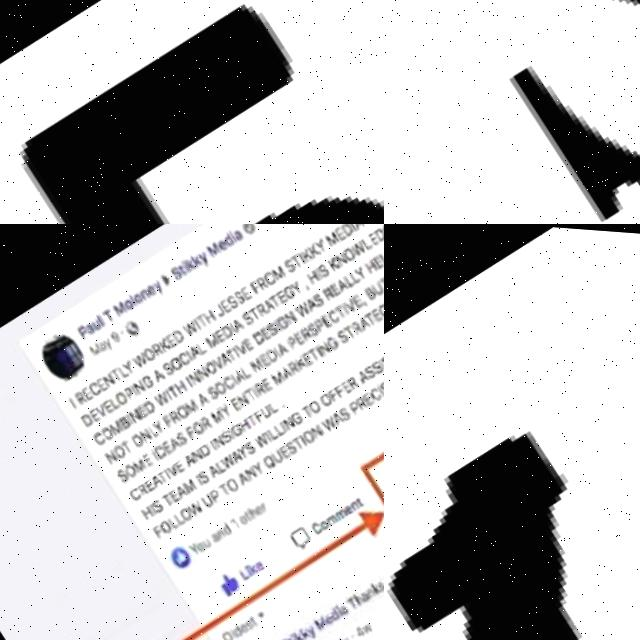1: (229, 512, 241, 526)
4: (356, 619, 368, 632)
5: (0, 0, 384, 224)
9: (109, 326, 122, 342)
S: (384, 0, 640, 224)
U: (384, 239, 640, 640)
